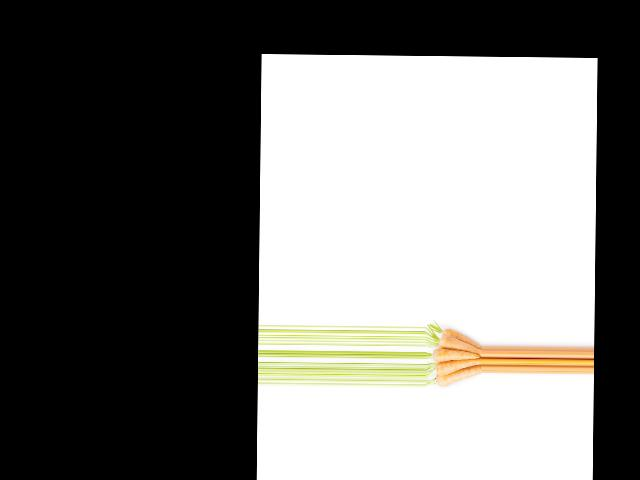carrot: (441, 323, 481, 348)
